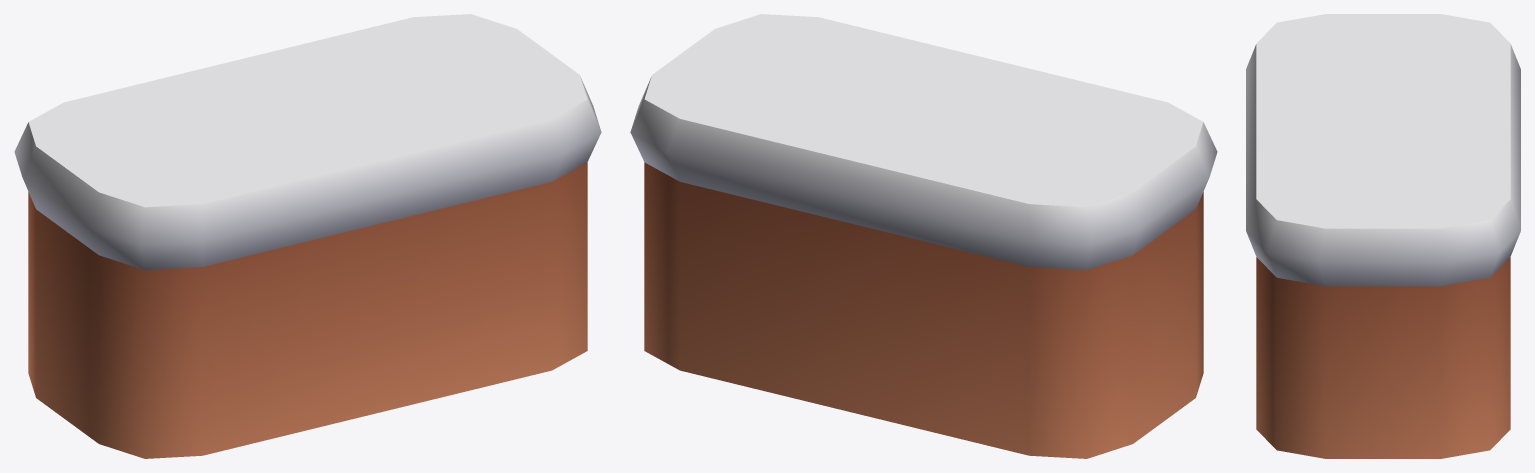
File: block-snow-long.glb
The picture shows the model from 3 angles, left to right: view 1: azimuth 30°, elevation 25°; view 2: azimuth 150°, elevation 25°; view 3: azimuth 270°, elevation 25°; orthographic projection. The views are drawn at different scales.
Parts seen in each view (by area): view 1: block-snow-long; view 2: block-snow-long; view 3: block-snow-long.
Boxes of the visible parts, <box> form: block-snow-long: <box>14,14,601,458</box>; block-snow-long: <box>630,14,1217,458</box>; block-snow-long: <box>1246,14,1520,458</box>.
Size of the model in its own units: 2.08 by 1 by 1.08.
Materials: 1 (1 with a texture image).
